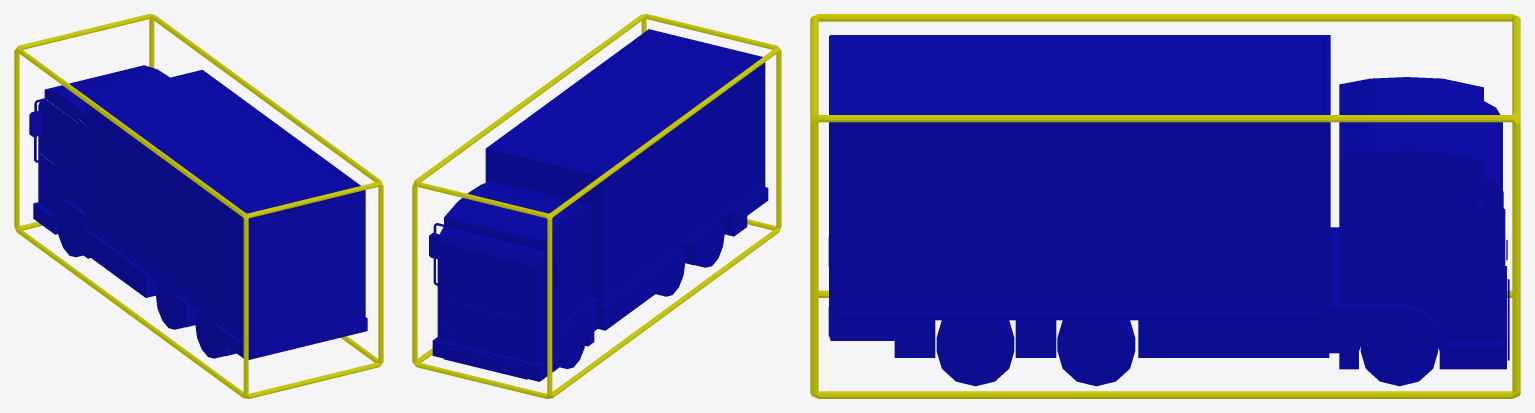
Rendered from truck.glb.
3 views of the same model, side by side, from view 1: azimuth 30°, elevation 25°; view 2: azimuth 150°, elevation 25°; view 3: azimuth 270°, elevation 25° (orthographic). The views are drawn at different scales.
Visible parts, largest first — view 1: truck_01, truck_kuang; view 2: truck_01, truck_kuang; view 3: truck_01, truck_kuang.
Part boxes in pixels (x1,y1,x2,y2): truck_01: (29,65,367,359); truck_kuang: (14,14,383,398); truck_01: (429,29,768,381); truck_kuang: (412,14,781,398); truck_01: (828,35,1509,386); truck_kuang: (810,14,1520,398).
Bounding box in the file's own units: 2.46 × 3.12 × 7.08.
